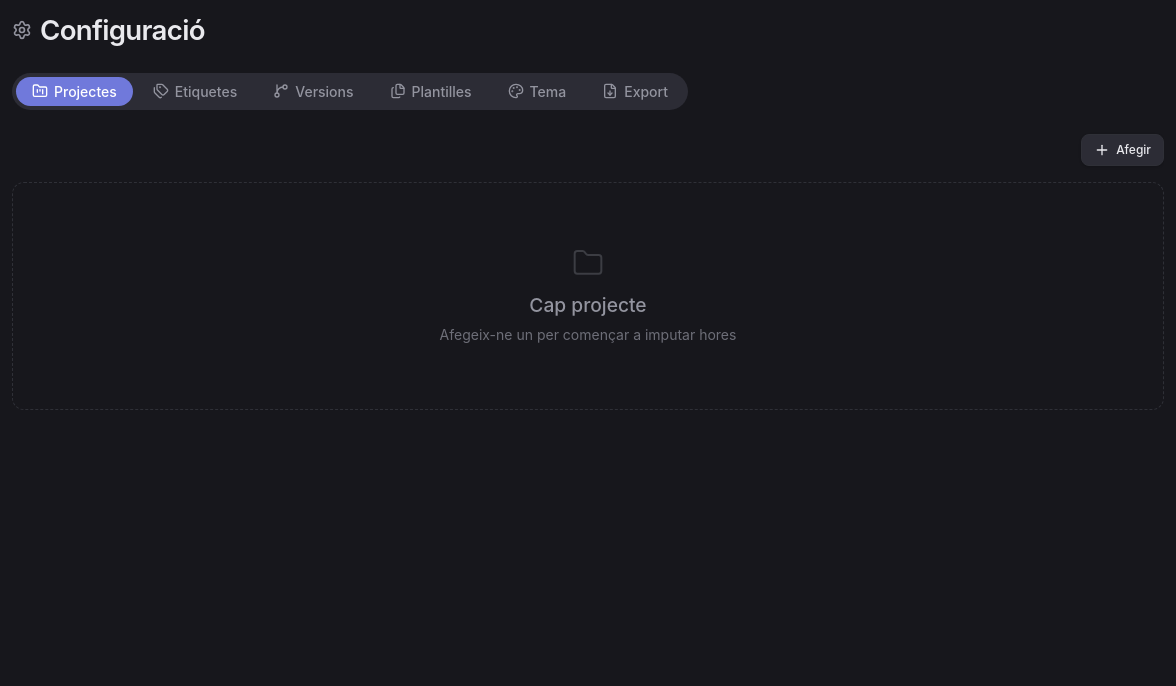
Scenario: ConfigPage › renders the theme tab with the available theme options
Click the tab "Tema": {"x": 537, "y": 91} [492, 77, 582, 106]
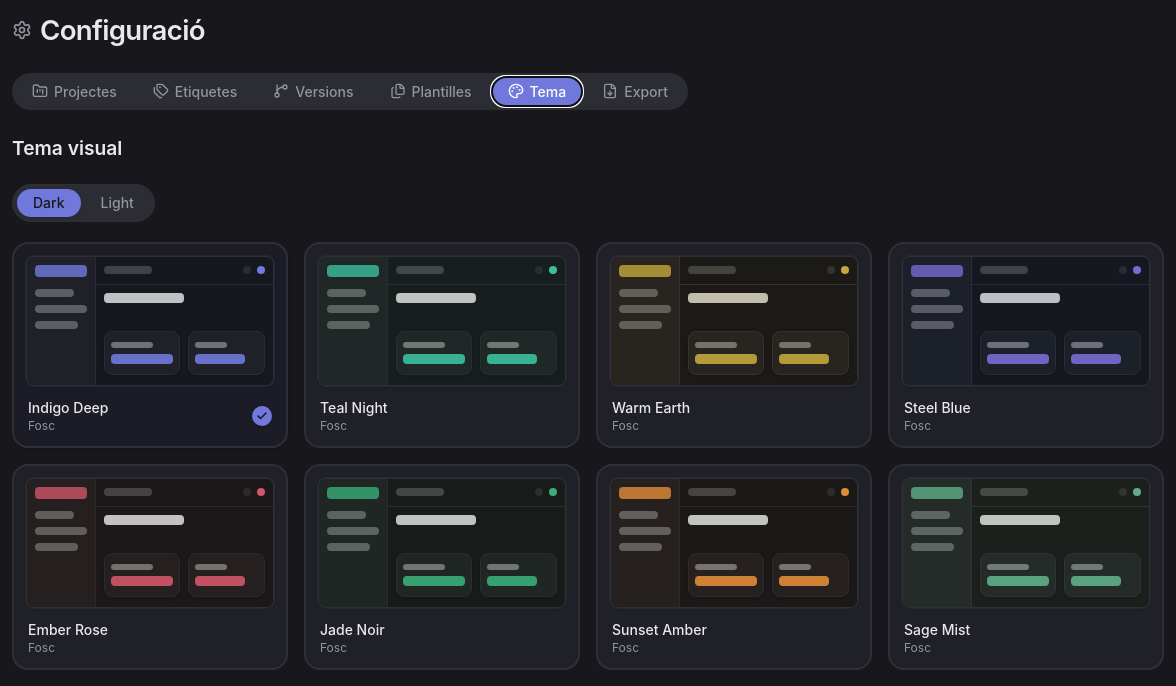
Expected: the text "Indigo Deep" is shown, [28, 398, 108, 418]
Expected: the text "Teal Night" is shown, [320, 398, 388, 418]
Expected: the text "Sage Mist" is shown, [904, 620, 970, 640]
